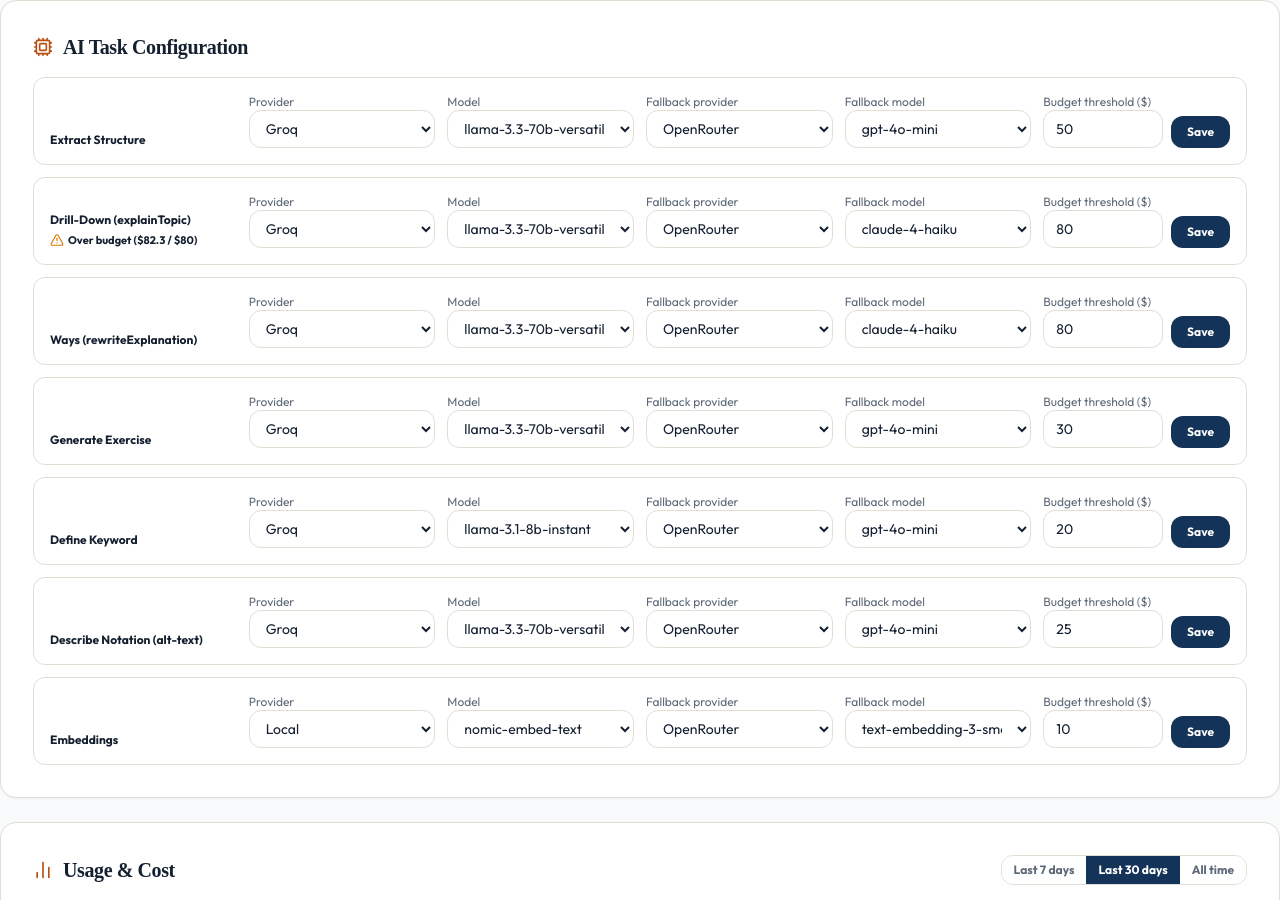
it: AiConfiguration › a failed save shows an inline error instead of a false "Saved!"
Click the 5th button "Save" at (1200, 532), box [1171,516,1230,548]
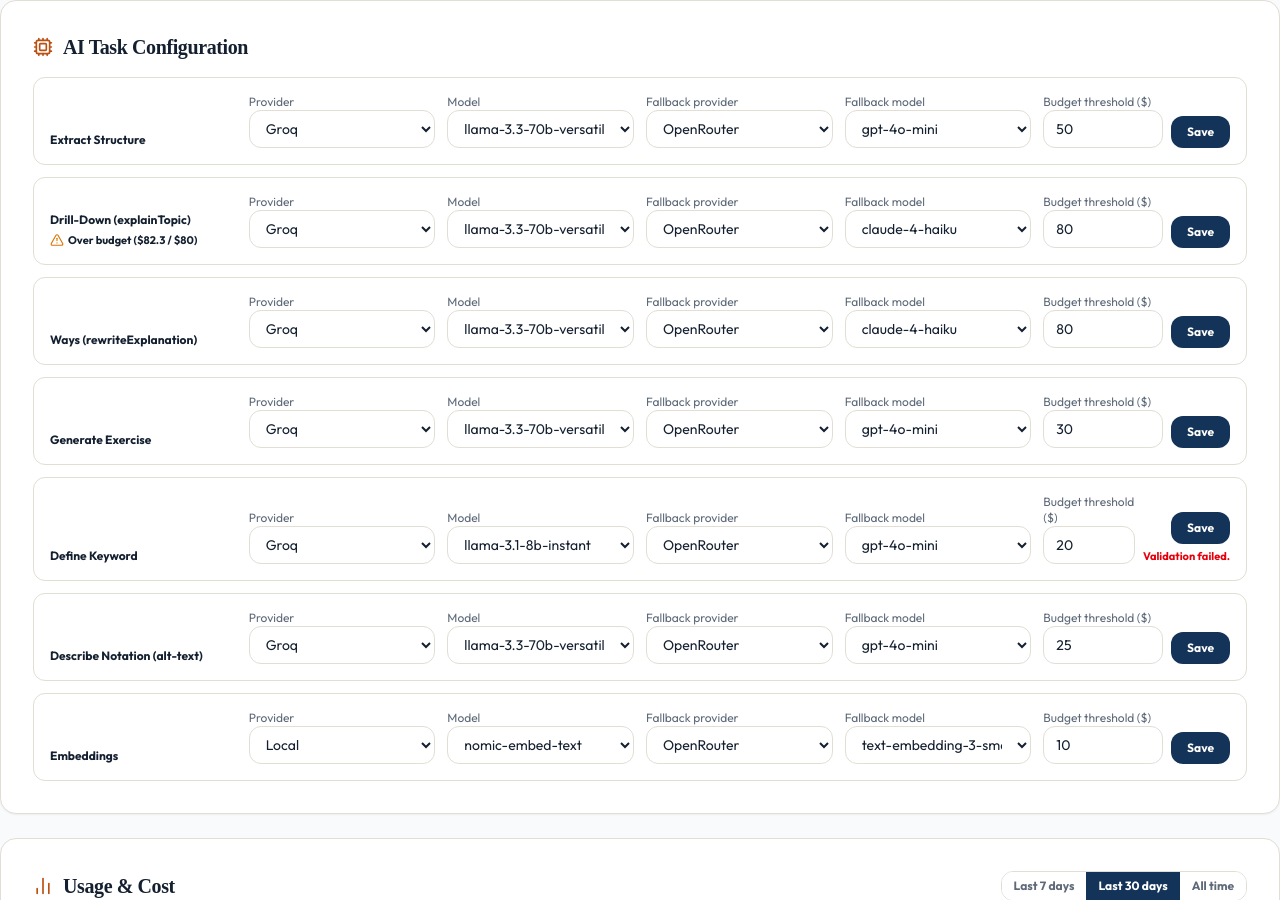
Result: the message with test id "save-error" reads "Validation failed." at [1143,548,1230,562]
